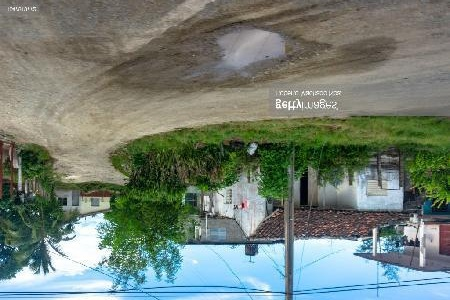pothole: (210, 25, 287, 74)
